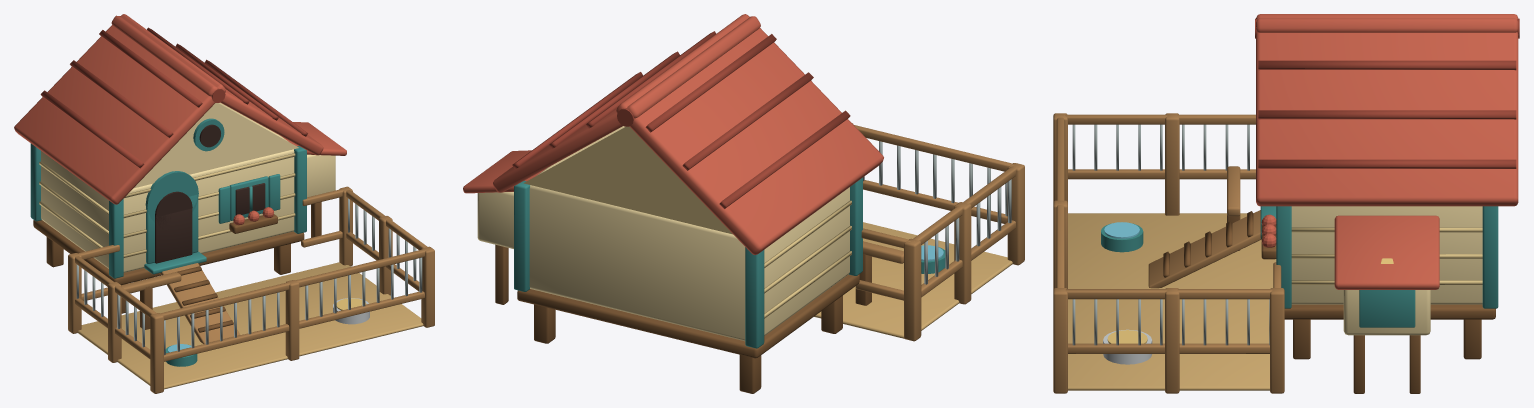
The model's file is coop.glb.
The picture shows the model from 3 angles, left to right: view 1: azimuth 30°, elevation 25°; view 2: azimuth 150°, elevation 25°; view 3: azimuth 270°, elevation 25°; orthographic projection. The views are drawn at different scales.
Parts seen in each view (by area): view 1: COOP · roof slab west, COOP · run ground, COOP · body, COOP · front gable, COOP · roof slab east, COOP · floor, COOP · front rail 0.96, COOP · front rail 0.42, COOP · ramp, COOP · pop door, COOP · pop door arch frame, COOP · nest box (+36 smaller); view 2: COOP · body, COOP · roof slab west, COOP · back gable, COOP · run ground, COOP · floor, COOP · roof slab east, COOP · nest box, COOP · corner board -12.0, COOP · rear post -1.85, COOP · corner board 12.0, COOP · front rail 0.96, COOP · mid post -1.85 (+22 smaller); view 3: COOP · roof slab east, COOP · run ground, COOP · body, COOP · nest lid, COOP · roof slab west, COOP · ramp, COOP · shingle course 10, COOP · shingle course 11, COOP · shingle course 12, COOP · nest hatch, COOP · side rail 1.850.96, COOP · side rail 1.850.42 (+25 smaller).
Boxes of the visible parts, bbox=[...] form: COOP · roof slab west: bbox=[14, 14, 225, 204]; COOP · run ground: bbox=[77, 262, 423, 389]; COOP · body: bbox=[41, 102, 294, 272]; COOP · front gable: bbox=[134, 103, 298, 188]; COOP · roof slab east: bbox=[111, 15, 323, 155]; COOP · floor: bbox=[33, 220, 304, 285]; COOP · front rail 0.96: bbox=[160, 249, 427, 320]; COOP · front rail 0.42: bbox=[164, 291, 424, 361]; COOP · ramp: bbox=[160, 263, 239, 343]; COOP · pop door: bbox=[154, 208, 192, 263]; COOP · pop door arch frame: bbox=[145, 171, 198, 222]; COOP · nest box: bbox=[307, 154, 335, 197]; COOP · body: bbox=[529, 126, 849, 341]; COOP · roof slab west: bbox=[616, 14, 883, 254]; COOP · back gable: bbox=[523, 126, 732, 234]; COOP · run ground: bbox=[814, 222, 1012, 338]; COOP · floor: bbox=[517, 274, 859, 358]; COOP · roof slab east: bbox=[493, 16, 760, 192]; COOP · nest box: bbox=[477, 192, 513, 248]; COOP · corner board -12.0: bbox=[745, 247, 764, 348]; COOP · rear post -1.85: bbox=[904, 238, 921, 341]; COOP · corner board 12.0: bbox=[514, 180, 529, 291]; COOP · front rail 0.96: bbox=[854, 125, 1013, 171]; COOP · mid post -1.85: bbox=[954, 202, 971, 304]; COOP · roof slab east: bbox=[1256, 14, 1518, 206]; COOP · run ground: bbox=[1068, 213, 1276, 390]; COOP · body: bbox=[1291, 206, 1482, 304]; COOP · nest lid: bbox=[1334, 215, 1439, 289]; COOP · roof slab west: bbox=[1256, 18, 1518, 32]; COOP · ramp: bbox=[1148, 210, 1261, 288]; COOP · shingle course 10: bbox=[1258, 60, 1516, 70]; COOP · shingle course 11: bbox=[1258, 110, 1516, 119]; COOP · shingle course 12: bbox=[1258, 159, 1516, 168]; COOP · nest hatch: bbox=[1359, 290, 1415, 327]; COOP · side rail 1.850.96: bbox=[1065, 289, 1272, 299]; COOP · side rail 1.850.42: bbox=[1068, 343, 1269, 353].
Size of the model in its own units: 4.09 by 2.85 by 4.18.
